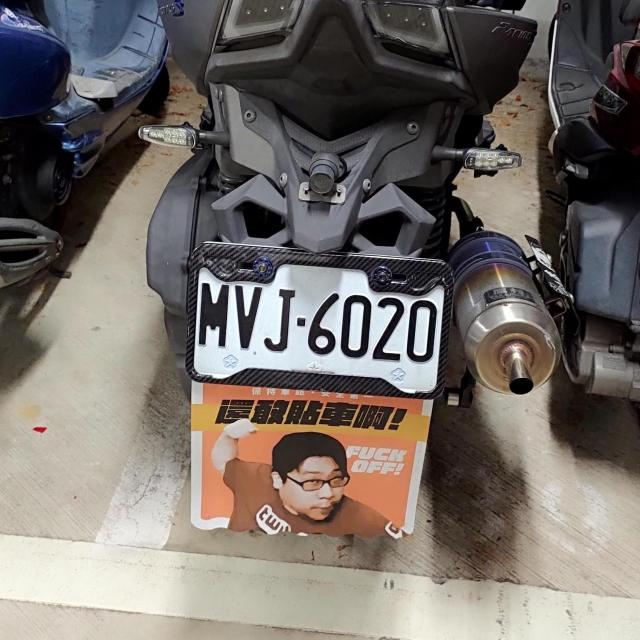W: (190, 250, 452, 387)
